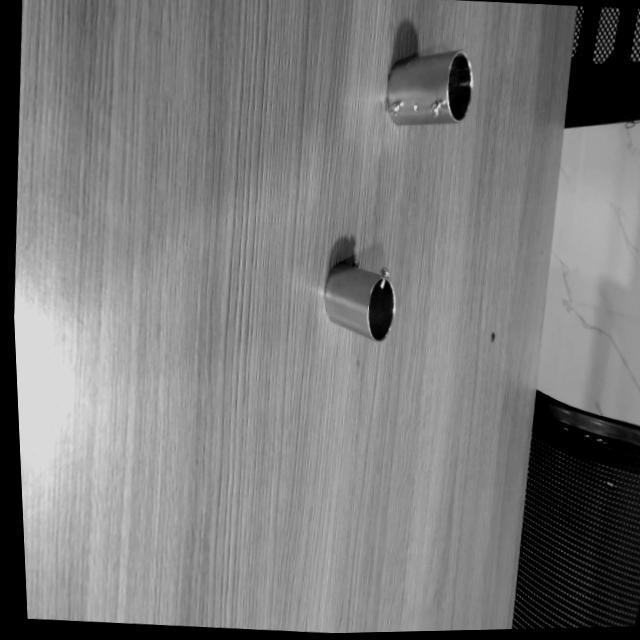Co_Lon: (384, 48, 474, 125)
Co_Nho: (316, 257, 403, 343)
